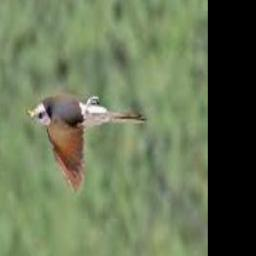Cuckoo: (27, 96, 147, 195)
